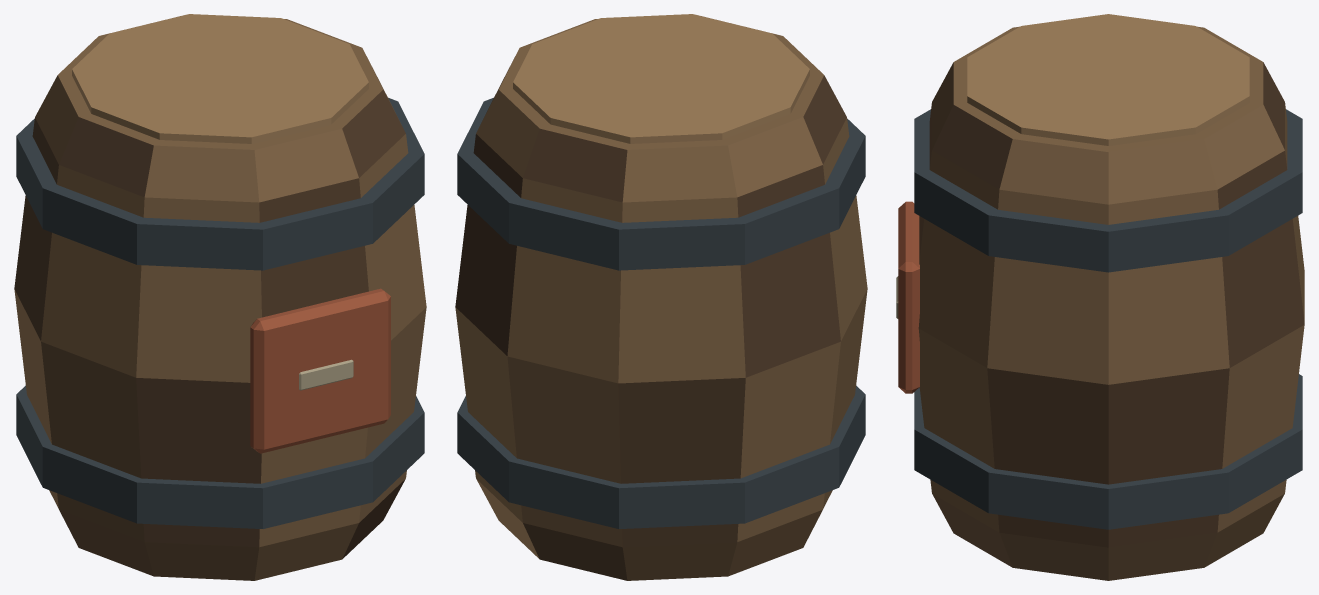
File: cider_barrel.glb
3 views of the same model, side by side, from view 1: azimuth 30°, elevation 25°; view 2: azimuth 150°, elevation 25°; view 3: azimuth 270°, elevation 25° (orthographic).
Parts seen in each view (by area): view 1: cider_barrel; view 2: cider_barrel; view 3: cider_barrel.
Boxes of the visible parts, <box> form: cider_barrel: <box>14,14,426,580</box>; cider_barrel: <box>455,14,867,580</box>; cider_barrel: <box>896,14,1304,580</box>.
Bounding box in the file's own units: 0.68 × 0.792 × 0.6731.
